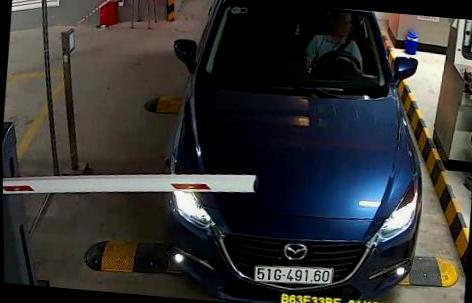License_Plate: (245, 255, 337, 288)
